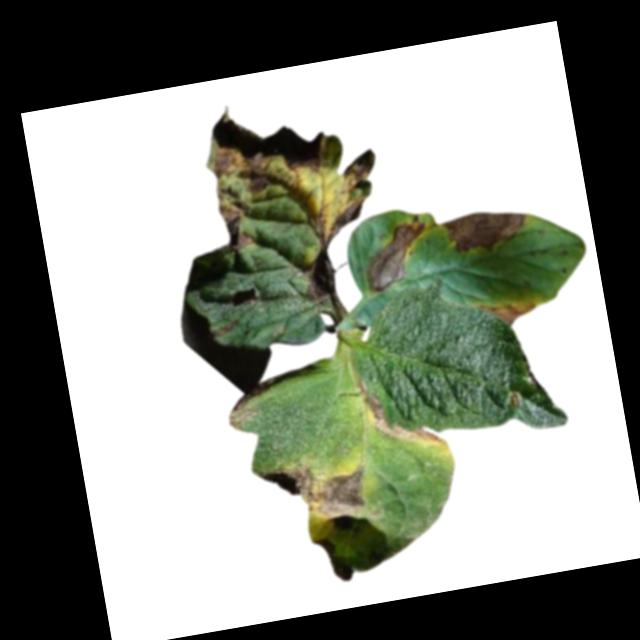Early_blight: (194, 83, 389, 318), (256, 452, 376, 532), (356, 365, 448, 456), (356, 210, 435, 294), (440, 202, 537, 262), (479, 295, 540, 330), (223, 390, 260, 431), (211, 320, 244, 340)
